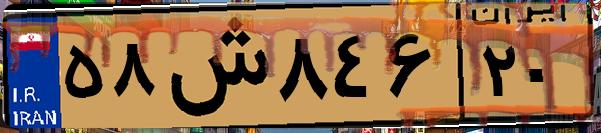0: (525, 38, 570, 115)
2: (475, 38, 525, 113)
4: (330, 28, 385, 110)
5: (57, 26, 110, 100)
6: (385, 28, 445, 110)
8: (270, 28, 330, 110), (110, 28, 158, 98)
ش: (158, 12, 270, 120)
